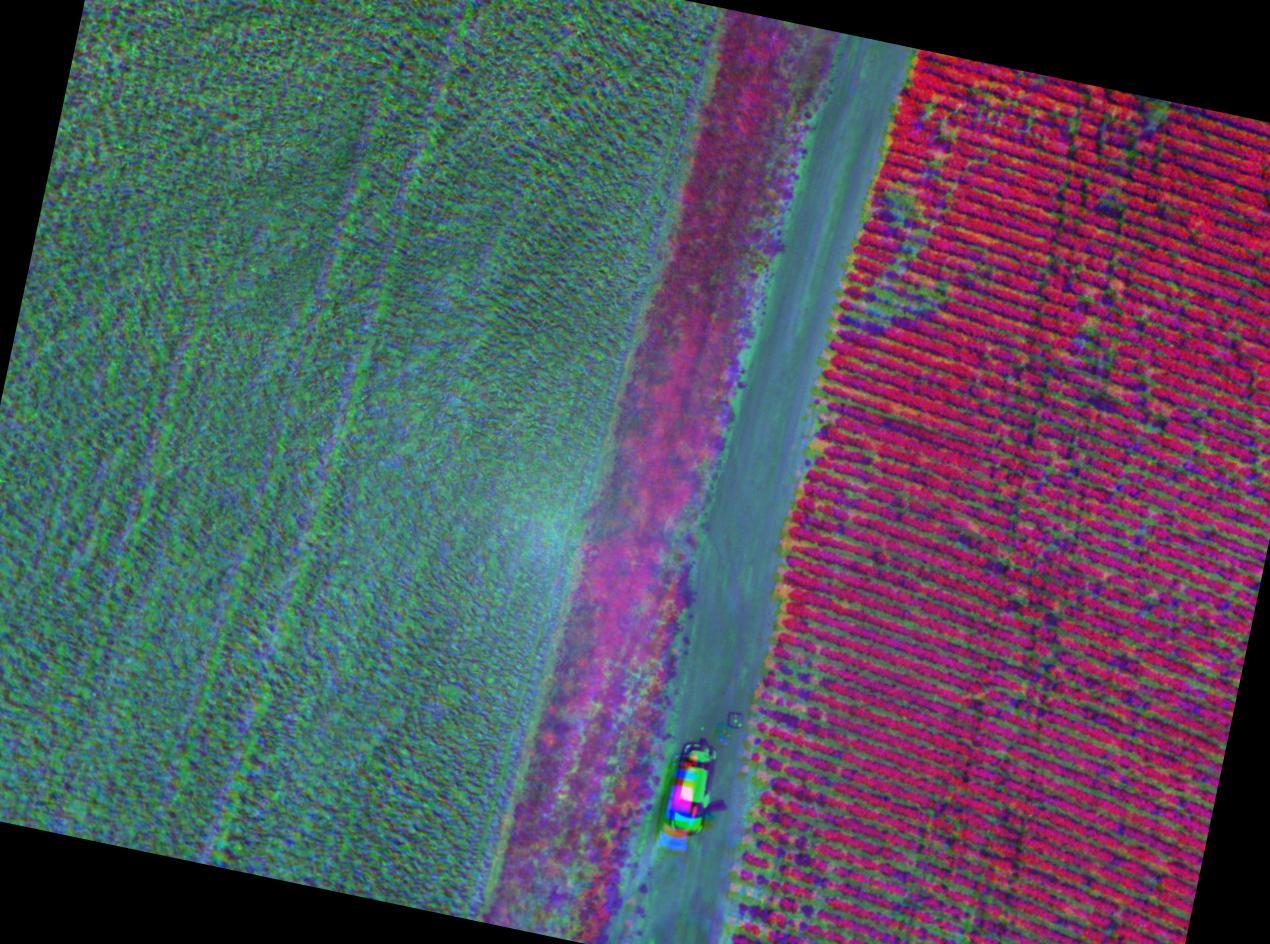dc: (773, 627, 851, 744), (843, 270, 951, 347), (884, 865, 974, 944), (746, 772, 797, 883), (1103, 94, 1189, 147), (885, 186, 954, 248), (1065, 305, 1131, 361)
